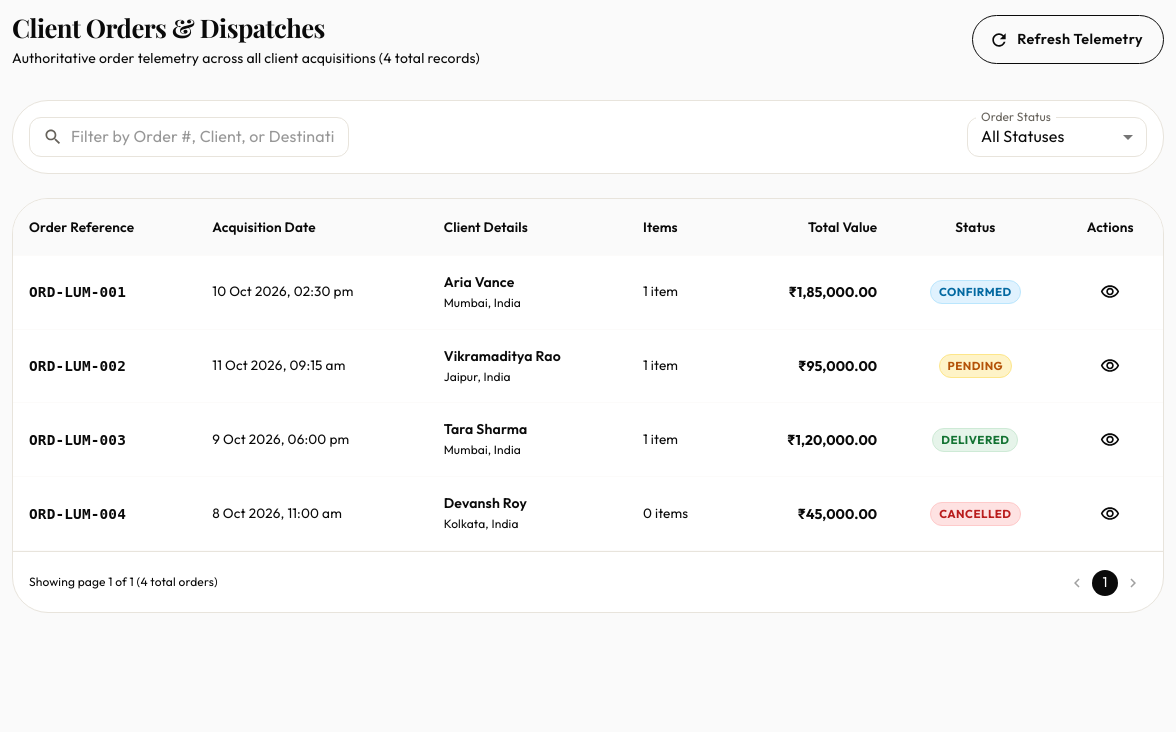
LUMIÈRE Stage 7B.2: Admin Management Suite Polish › Admin Order Management › filters orders by search query and status dropdown
The image size is (1176, 732).
Expected: the text "ORD-LUM-001" is shown, x1=13 y1=256 x2=196 y2=330
Step 1. Type "Jaipur" into the field with placeholder "Filter by Order #, Client, or Destination..." → (210, 137), box x1=71 y1=117 x2=349 y2=157
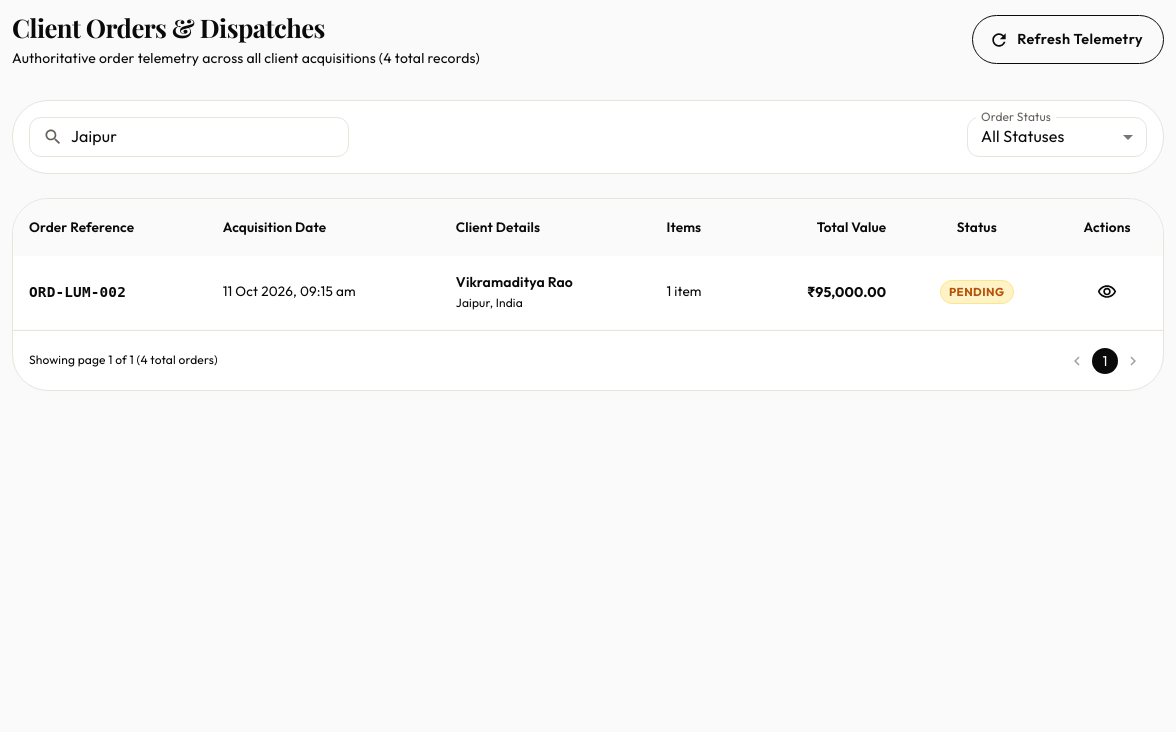
Expected: the text "ORD-LUM-002" is shown, x1=13 y1=256 x2=207 y2=330
Expected: the text "ORD-LUM-001" is gone
